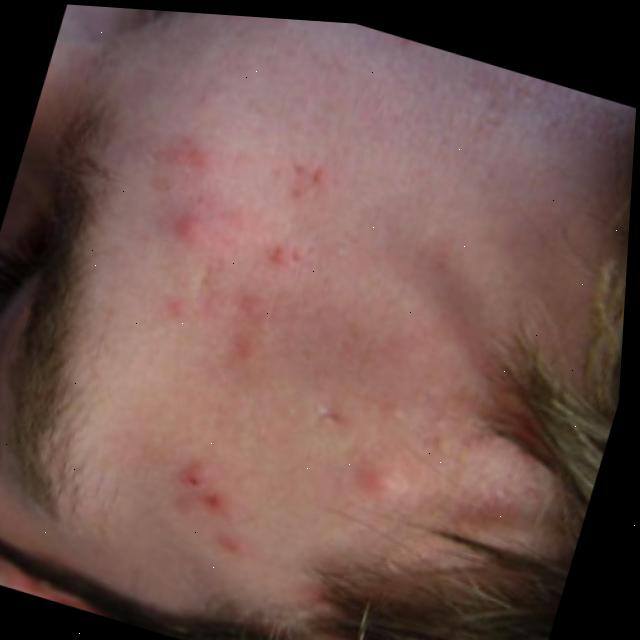Acne: (11, 108, 447, 615)
